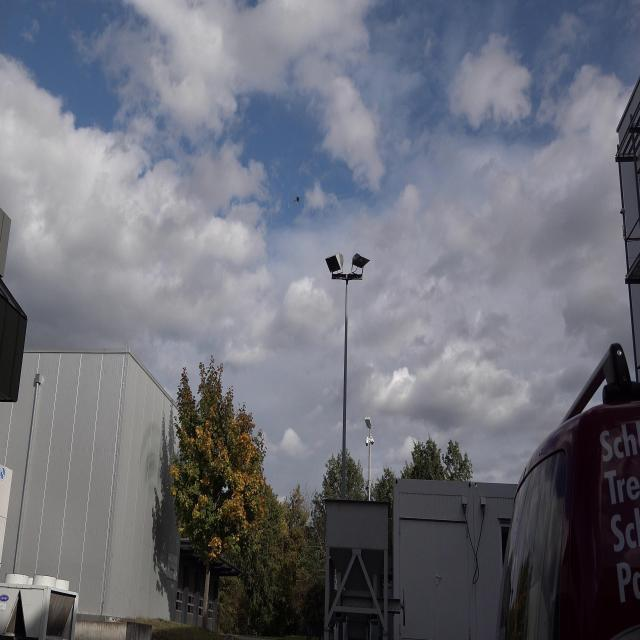drone: (288, 190, 304, 208)
